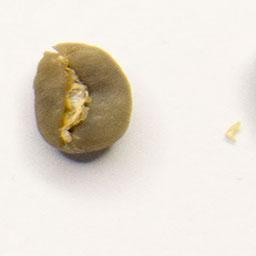peaberry: (30, 37, 137, 160)
